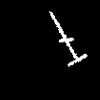double_crochet: (50, 12, 86, 65)
